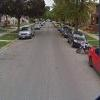Car: (57, 19, 85, 47)
